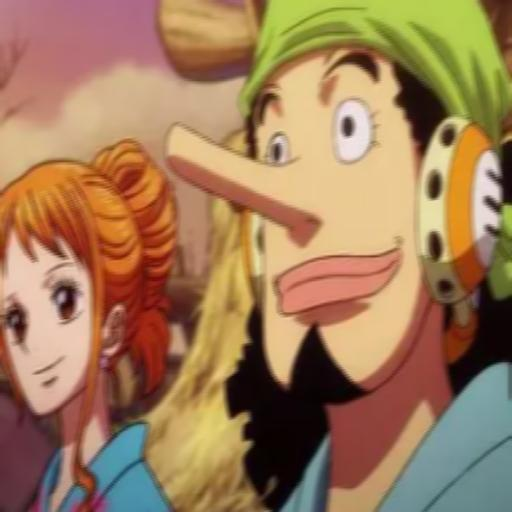Nami: (0, 131, 187, 512)
Usopp: (165, 0, 512, 512)
